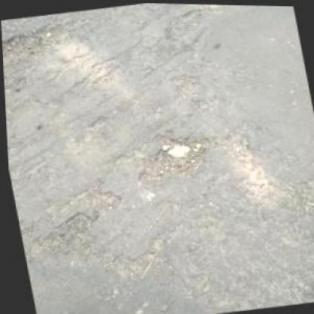Hueco: (129, 129, 217, 190), (75, 180, 123, 208), (57, 208, 92, 236), (167, 70, 202, 98)
